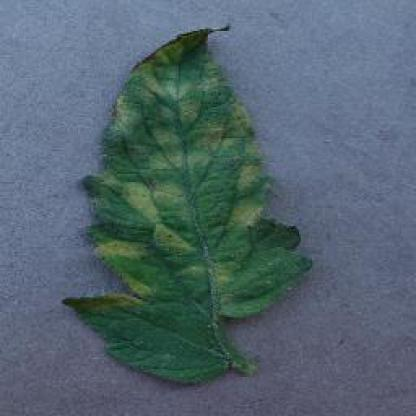bad leaf: (92, 22, 300, 277)
